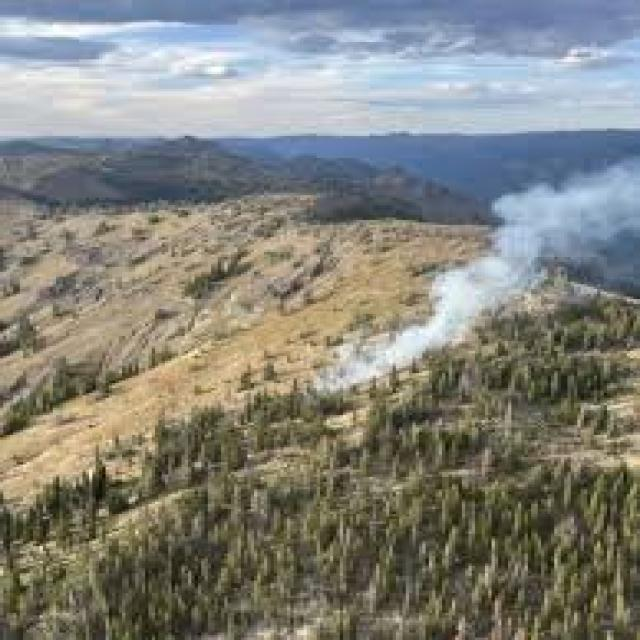Smoke: (293, 145, 640, 410)
